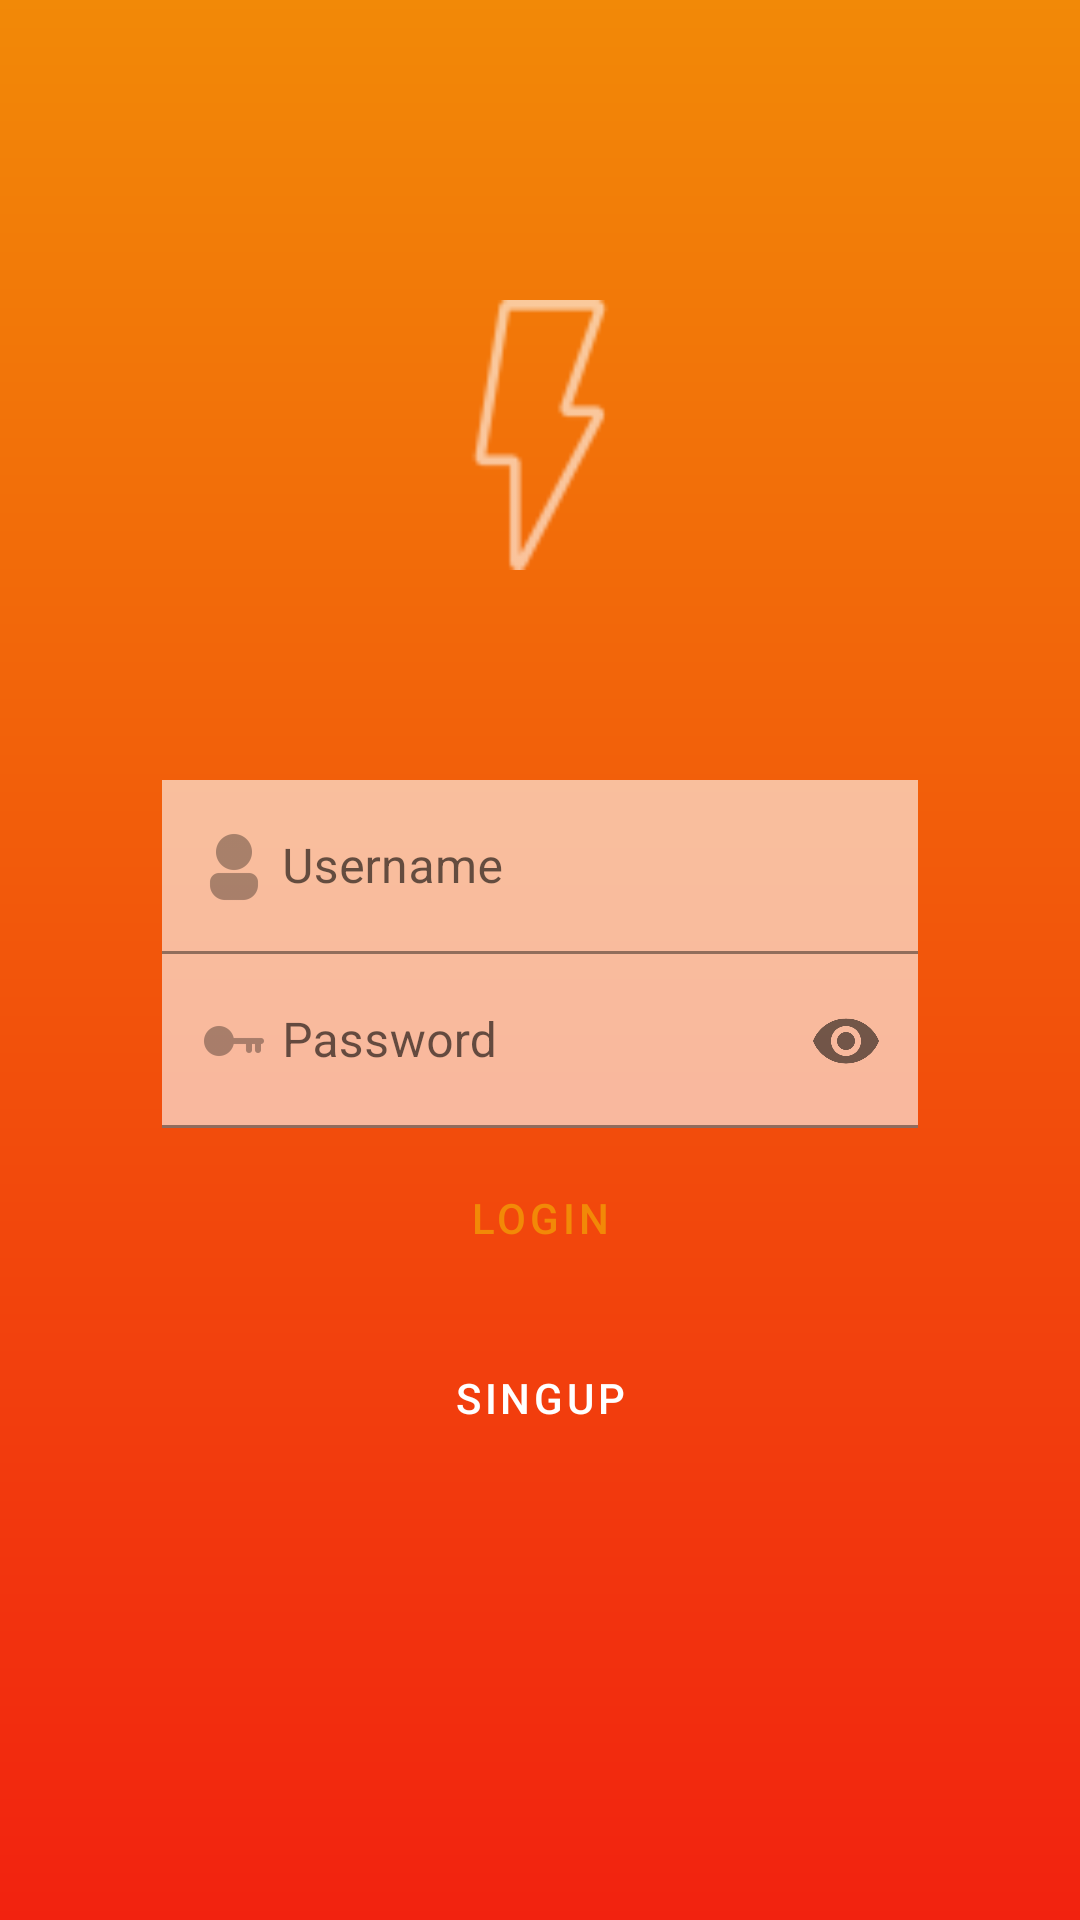

Icons on this 1080w x 1920h Android screen, each with the point to tap as point (x, y):
thunder: point (540, 435)
